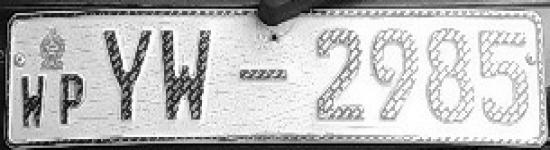-: (234, 61, 293, 92)
2: (304, 24, 368, 127)
5: (477, 25, 531, 131)
8: (422, 21, 474, 132)
9: (369, 25, 422, 128)
P: (51, 69, 91, 134)
W: (155, 24, 219, 130), (16, 69, 48, 134)
Y: (98, 20, 154, 128)
